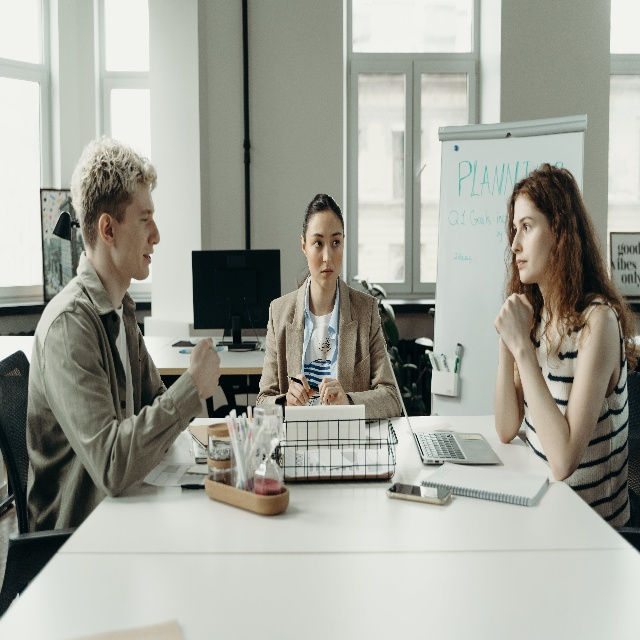Sin_guantes: (493, 292, 534, 354), (190, 337, 221, 400), (286, 374, 316, 406), (318, 376, 349, 406)
